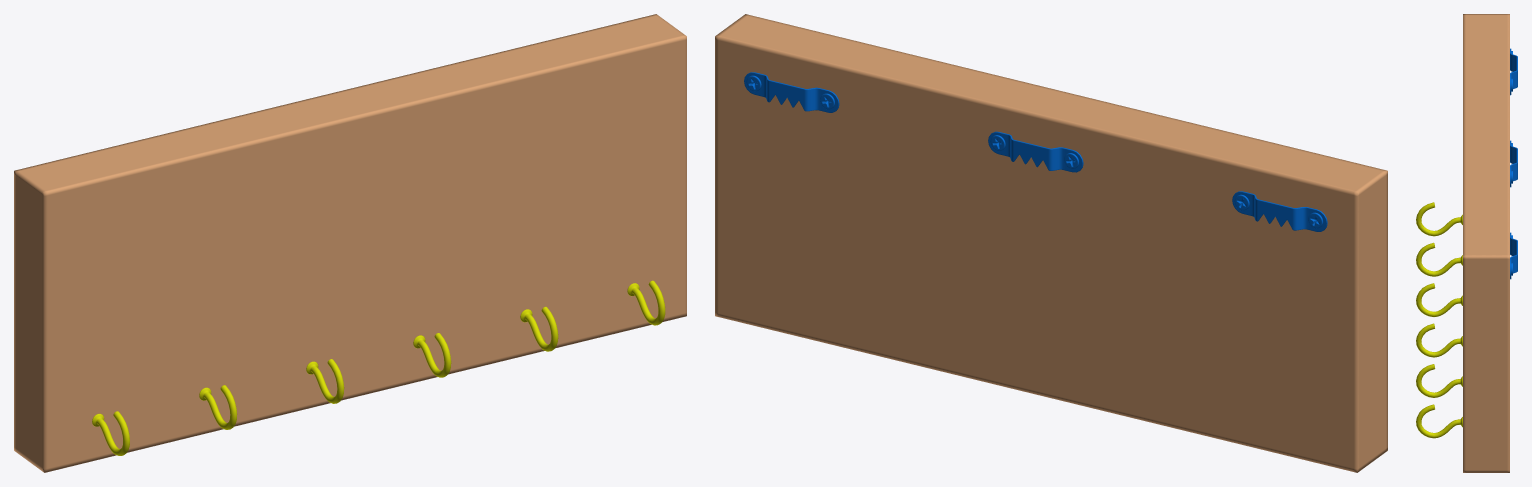
The model's file is key-hanger-005.glb.
3 views of the same model, side by side, from view 1: azimuth 30°, elevation 25°; view 2: azimuth 150°, elevation 25°; view 3: azimuth 270°, elevation 25° (orthographic). The views are drawn at different scales.
Parts seen in each view (by area): view 1: key-hanger-005; view 2: key-hanger-005; view 3: key-hanger-005.
Part boxes in pixels (bbox=[...]): key-hanger-005: bbox=[14, 14, 686, 472]; key-hanger-005: bbox=[715, 14, 1387, 472]; key-hanger-005: bbox=[1416, 14, 1517, 472].
Bounding box in the file's own units: 0.305 × 0.127 × 0.0542.
